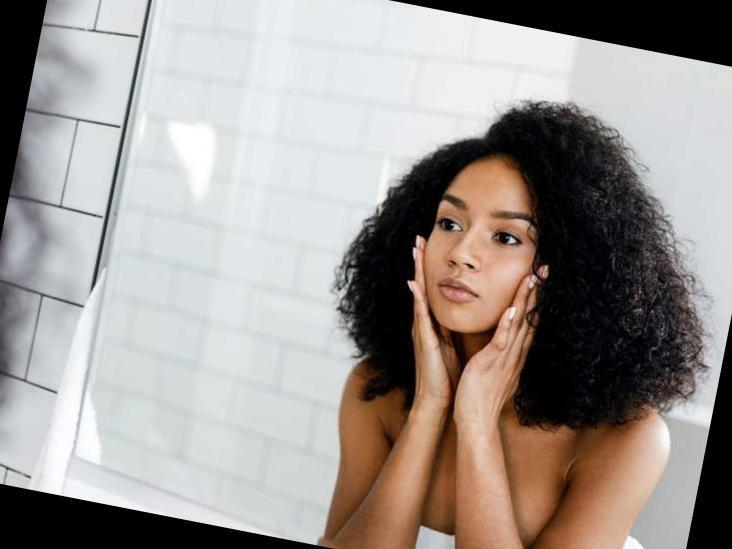Sober: (433, 163, 529, 325)
